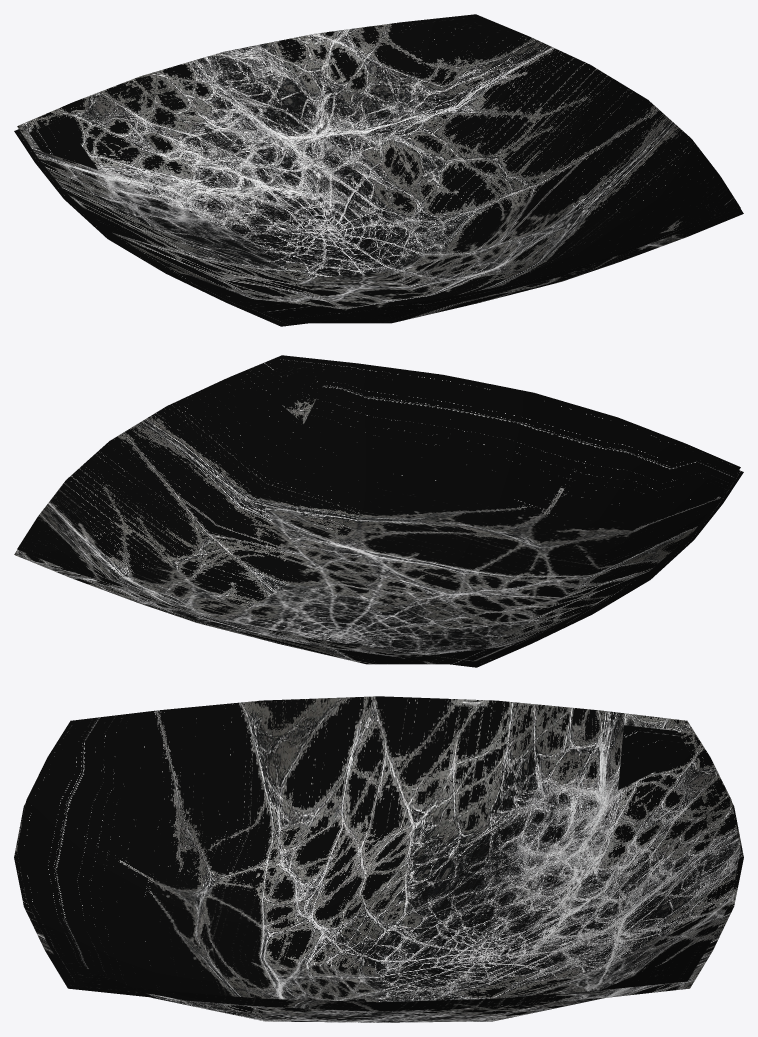
Rendered from Cobweb_ceiling.fbx.
The picture shows the model from 3 angles, top to bottom: view 1: azimuth 30°, elevation 25°; view 2: azimuth 150°, elevation 25°; view 3: azimuth 270°, elevation 25°; orthographic projection. The views are drawn at different scales.
Parts seen in each view (by area): view 1: Cobweb_Ceiling; view 2: Cobweb_Ceiling; view 3: Cobweb_Ceiling.
Boxes of the visible parts, x1=… form: Cobweb_Ceiling: x1=14, y1=14, x2=743, y2=326; Cobweb_Ceiling: x1=14, y1=355, x2=743, y2=667; Cobweb_Ceiling: x1=14, y1=696, x2=743, y2=1022.
Bounding box in the file's own units: 321 × 66.2 × 321.
